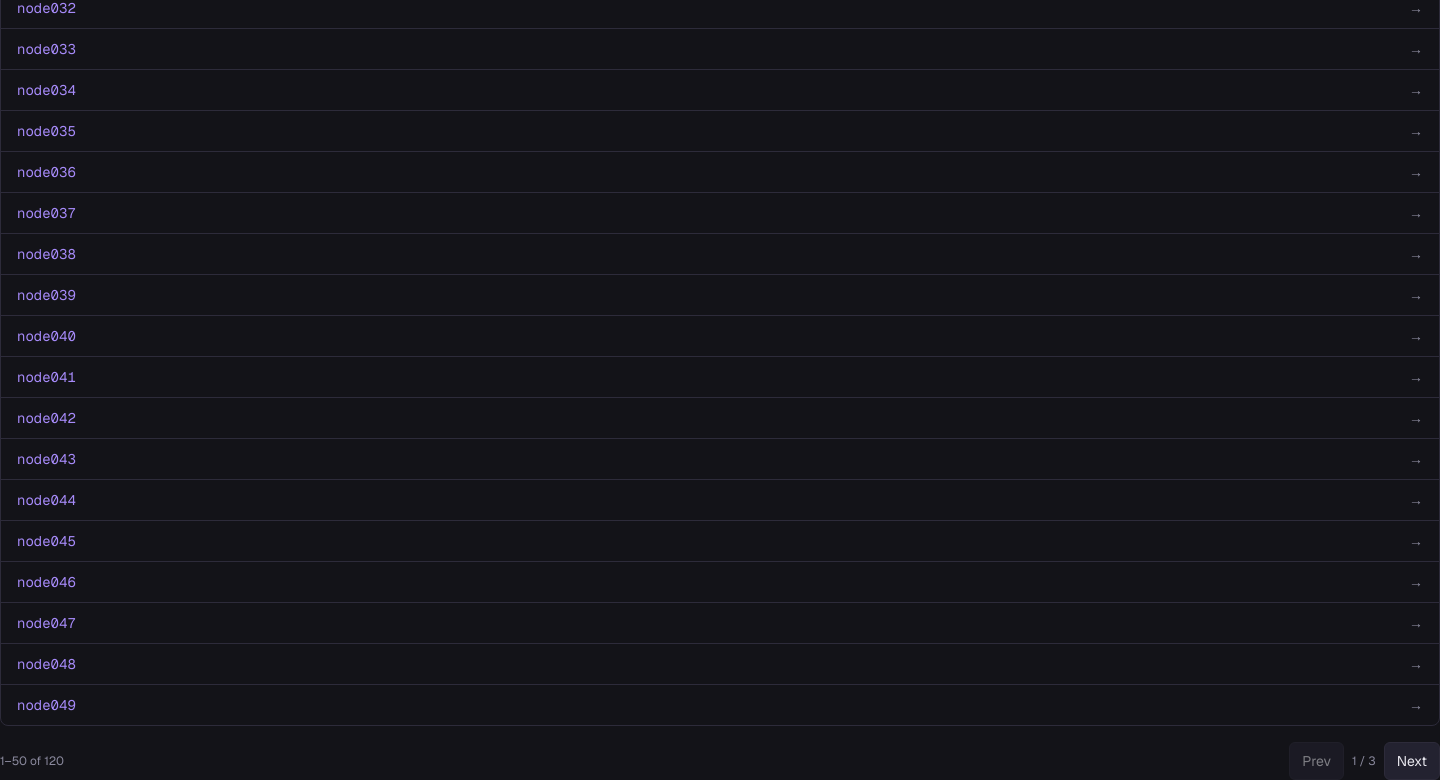
it: ResourceTable › filtering resets to the first page and updates the count
(page scrolled)
Click the button with aria-label "Next page" at (1412, 761), box x1=1384 y1=742 x2=1439 y2=779
(page scrolled)
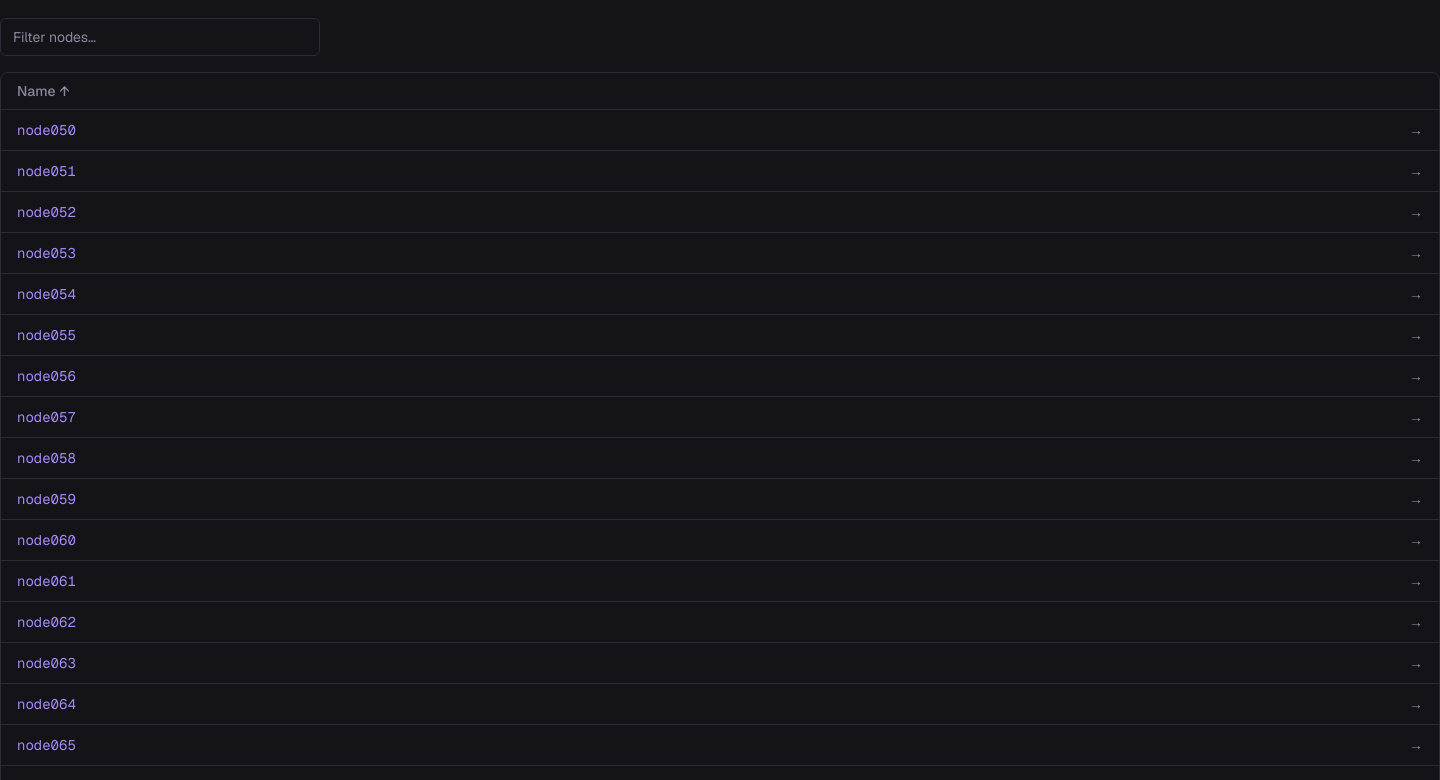
Type "node01" into the field with placeholder "Filter nodes…" at (160, 37), box x1=0 y1=18 x2=320 y2=56
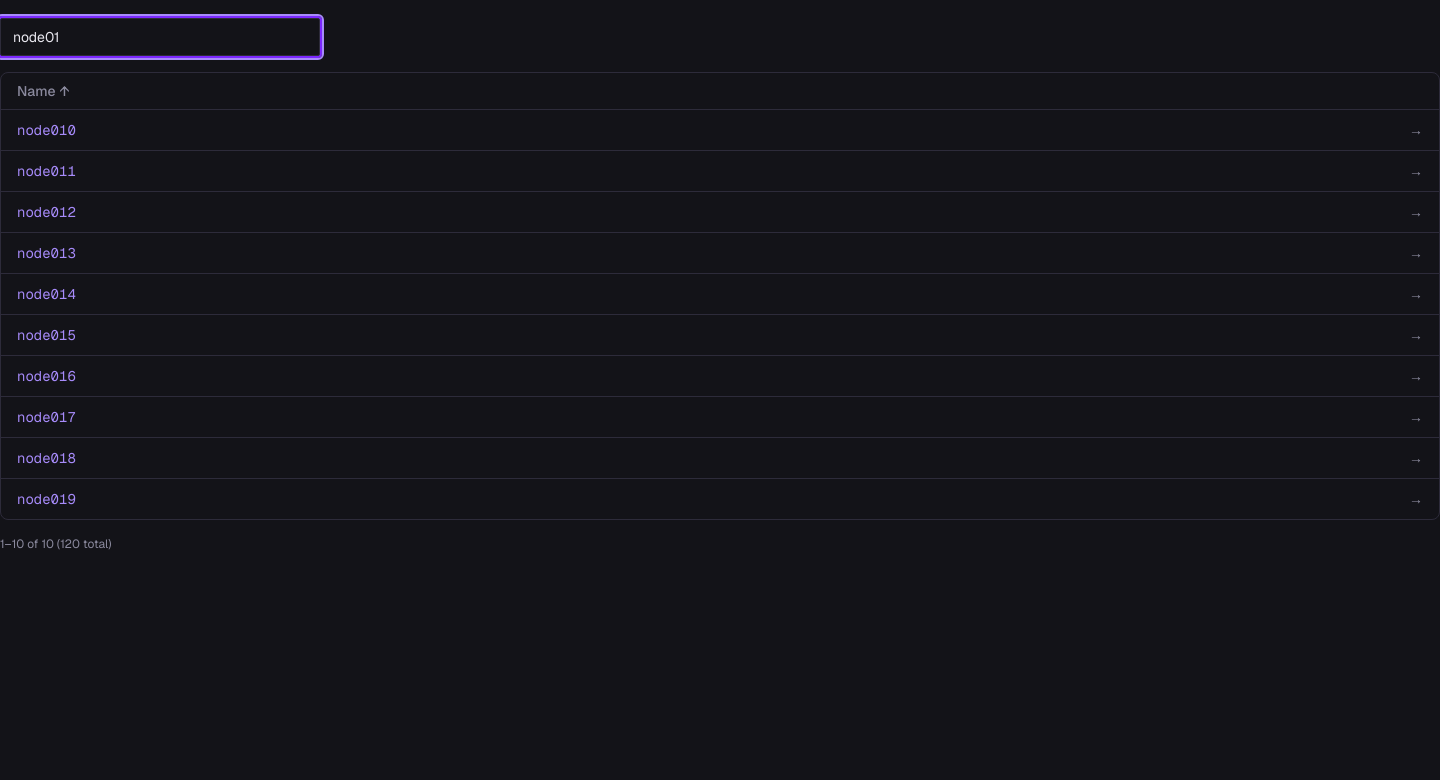
Expected: the text "1–10 of 10 (120 total)" is shown, x1=0 y1=536 x2=112 y2=552
